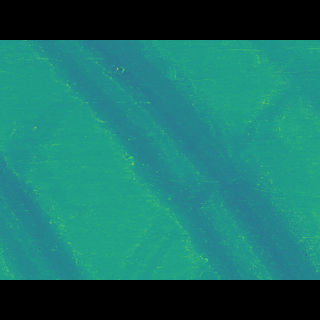Loch: (24, 71, 320, 250), (0, 154, 105, 249)
